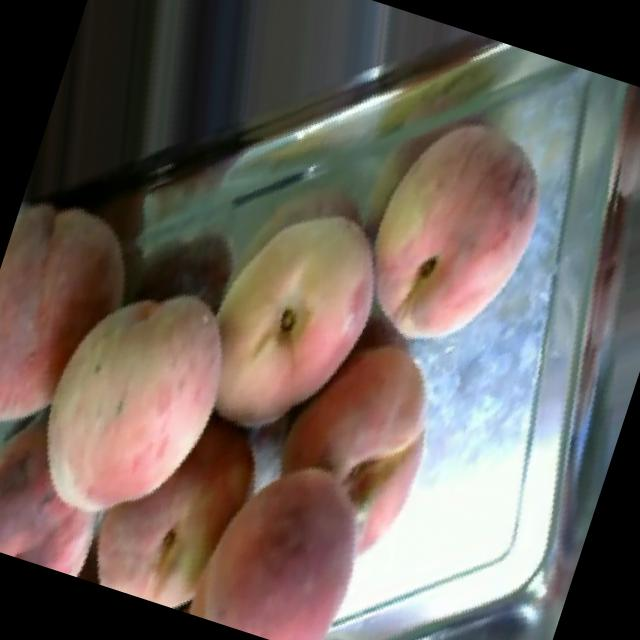Fruit: (0, 231, 283, 577), (152, 160, 432, 487), (312, 71, 591, 391), (211, 290, 476, 598), (0, 170, 179, 482)
